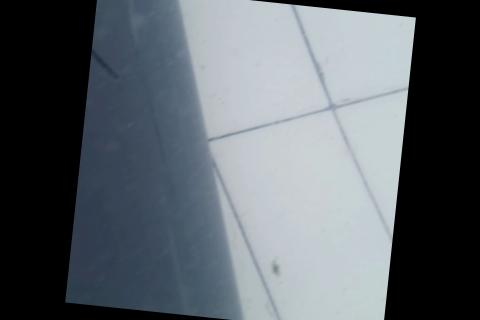keretakan: (88, 21, 126, 80)
